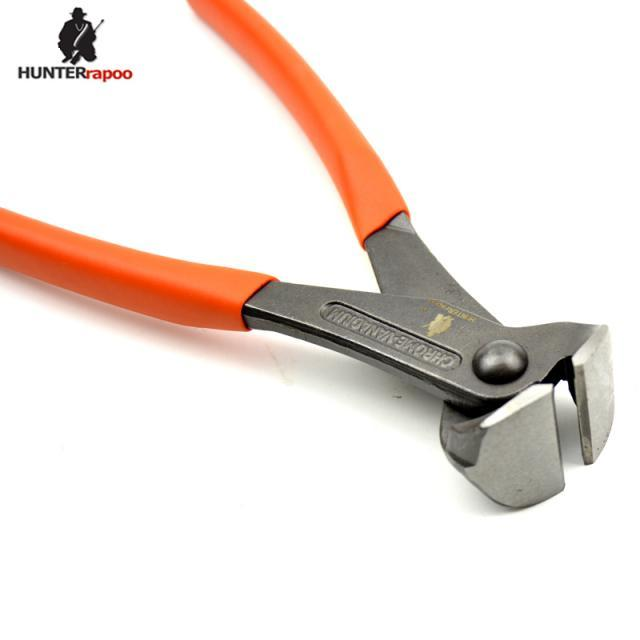pliers: (0, 0, 621, 516)
